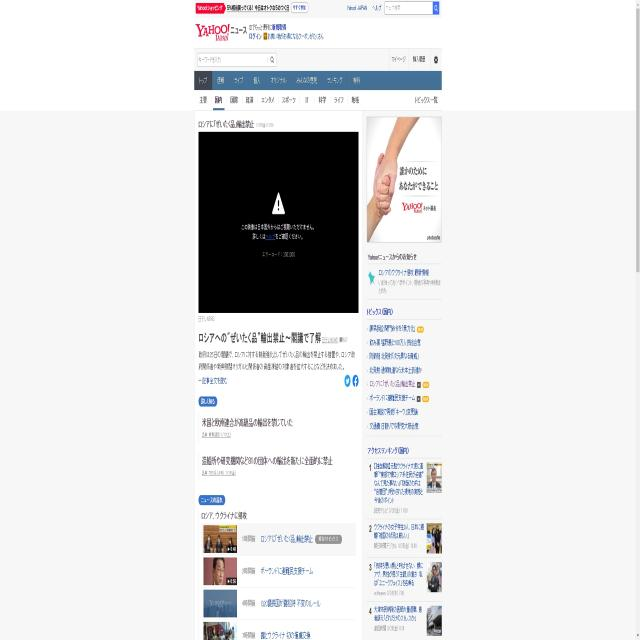search: (198, 52, 276, 65)
side-panel: (363, 306, 450, 640)
tab-bar: (193, 70, 364, 106)
